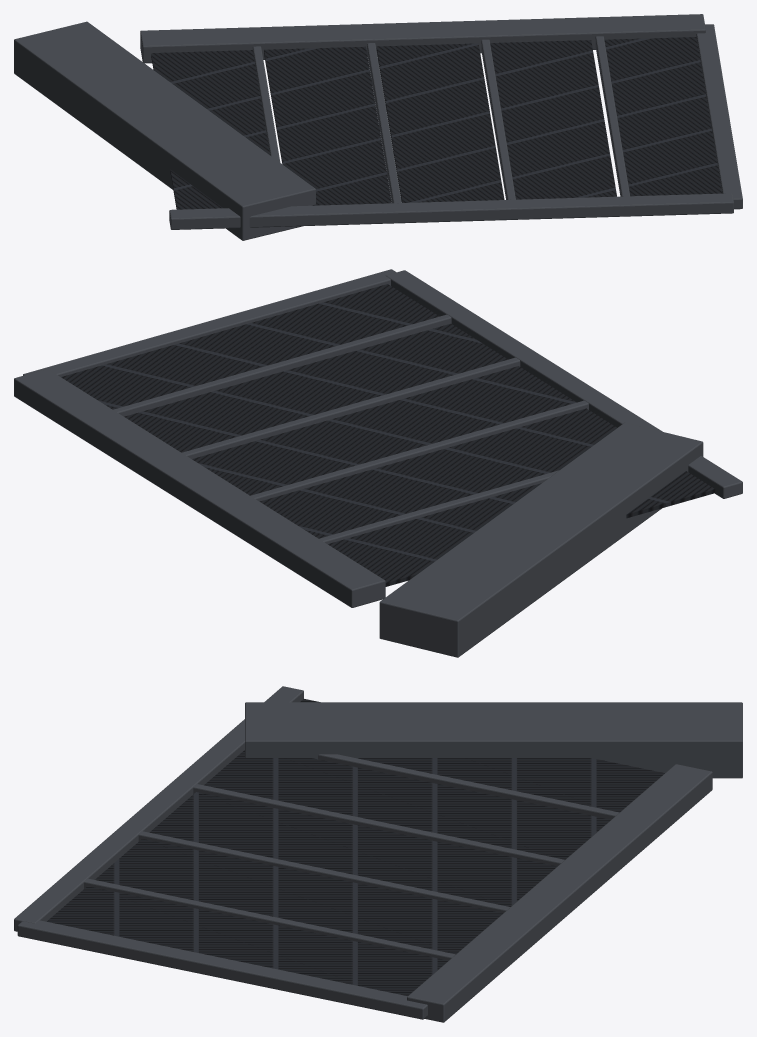
File: mod_stealth_radiator_wing.glb
3 views of the same model, one above another, from view 1: azimuth 30°, elevation 25°; view 2: azimuth 150°, elevation 25°; view 3: azimuth 270°, elevation 25° (orthographic). The views are drawn at different scales.
Parts seen in each view (by area): view 1: Mod_Stealth_Radiator_CarbonPanels, Mod_Stealth_Radiator_BaffleFrame; view 2: Mod_Stealth_Radiator_CarbonPanels, Mod_Stealth_Radiator_BaffleFrame; view 3: Mod_Stealth_Radiator_CarbonPanels, Mod_Stealth_Radiator_BaffleFrame.
Part boxes in pixels (x1,y1,x2,y2): Mod_Stealth_Radiator_CarbonPanels: (151, 37, 722, 209); Mod_Stealth_Radiator_BaffleFrame: (14, 14, 742, 240); Mod_Stealth_Radiator_CarbonPanels: (61, 284, 715, 586); Mod_Stealth_Radiator_BaffleFrame: (14, 269, 742, 657); Mod_Stealth_Radiator_CarbonPanels: (47, 699, 664, 995); Mod_Stealth_Radiator_BaffleFrame: (14, 686, 742, 1022).
Bounding box in the file's own units: 13.16 × 0.72 × 12.59.
Materials: 2 (1 with a texture image).
